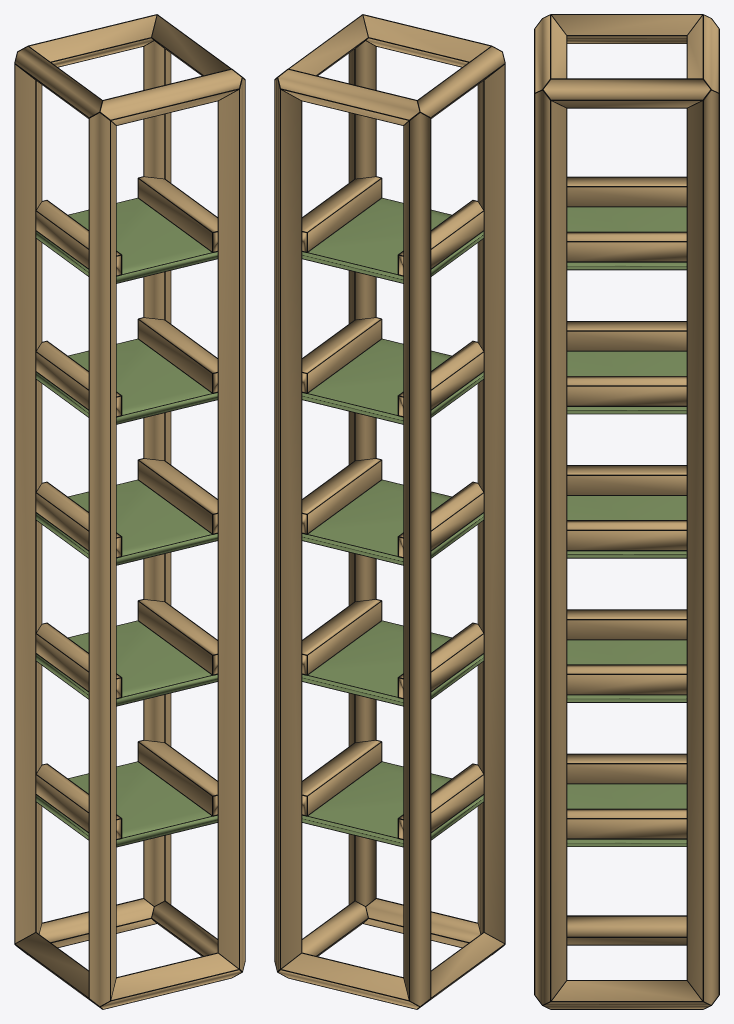
Rendered from 013-bibliotheque.glb.
3 renders of one model, left to right at view 1: azimuth 30°, elevation 25°; view 2: azimuth 150°, elevation 25°; view 3: azimuth 270°, elevation 25°, orthographic. The views are drawn at different scales.
Visible parts, largest first — view 1: arete-Z0, arete-Z1, arete-Z2, arete-Z3, tablette-plate-mod-0, tablette-plate-mod-3, tablette-plate-mod-2, tablette-plate-mod-4, tablette-plate-mod-1, arete-wire-Z2, arete-X2, arete-wire-Z0 (+25 smaller); view 2: arete-Z2, arete-Z3, arete-Z0, arete-Z1, tablette-plate-mod-0, tablette-plate-mod-3, tablette-plate-mod-2, tablette-plate-mod-4, tablette-plate-mod-1, arete-wire-Z0, arete-X3, arete-wire-Z2 (+26 smaller); view 3: arete-Z1, arete-Z3, arete-wire-Z1, arete-wire-Z3, arete-Y3, tablette-plate-mod-0, tablette-plate-mod-4, tablette-plate-mod-1, tablette-plate-mod-3, arete-Y1, tablette-plate-mod-2, arete-Y2 (+27 smaller).
Boxes of the visible parts, left/top/right/bottom form: arete-Z0: left=89, top=113, right=115, bottom=1005; arete-Z1: left=218, top=78, right=244, bottom=970; arete-Z2: left=15, top=65, right=41, bottom=942; arete-Z3: left=144, top=41, right=170, bottom=905; tablette-plate-mod-0: left=36, top=762, right=217, bottom=846; tablette-plate-mod-3: left=36, top=339, right=217, bottom=423; tablette-plate-mod-2: left=36, top=480, right=217, bottom=564; tablette-plate-mod-4: left=36, top=198, right=217, bottom=282; tablette-plate-mod-1: left=36, top=621, right=217, bottom=705; arete-wire-Z2: left=14, top=64, right=42, bottom=943; arete-X2: left=100, top=69, right=241, bottom=124; arete-wire-Z0: left=88, top=112, right=116, bottom=1001; arete-Z2: left=404, top=113, right=430, bottom=1005; arete-Z3: left=275, top=78, right=301, bottom=970; arete-Z0: left=478, top=65, right=504, bottom=942; arete-Z1: left=349, top=41, right=375, bottom=905; tablette-plate-mod-0: left=302, top=762, right=483, bottom=846; tablette-plate-mod-3: left=302, top=339, right=483, bottom=423; tablette-plate-mod-2: left=302, top=480, right=483, bottom=564; tablette-plate-mod-4: left=302, top=198, right=483, bottom=282; tablette-plate-mod-1: left=302, top=621, right=483, bottom=705; arete-wire-Z0: left=477, top=52, right=505, bottom=943; arete-X3: left=278, top=69, right=419, bottom=124; arete-wire-Z2: left=403, top=112, right=431, bottom=1001; arete-Z1: left=535, top=90, right=566, bottom=1004; arete-Z3: left=687, top=90, right=718, bottom=1004; arete-wire-Z1: left=534, top=89, right=567, bottom=1001; arete-wire-Z3: left=686, top=93, right=719, bottom=1001; arete-Y3: left=543, top=79, right=710, bottom=107; tablette-plate-mod-0: left=567, top=784, right=686, bottom=846; tablette-plate-mod-4: left=567, top=207, right=686, bottom=269; tablette-plate-mod-1: left=567, top=640, right=686, bottom=701; tablette-plate-mod-3: left=567, top=351, right=686, bottom=413; arete-Y1: left=544, top=981, right=709, bottom=1008; tablette-plate-mod-2: left=567, top=496, right=686, bottom=557; arete-Y2: left=552, top=15, right=701, bottom=43.
Size of the model in its own units: 0.3309 by 1.83 by 0.3309.
